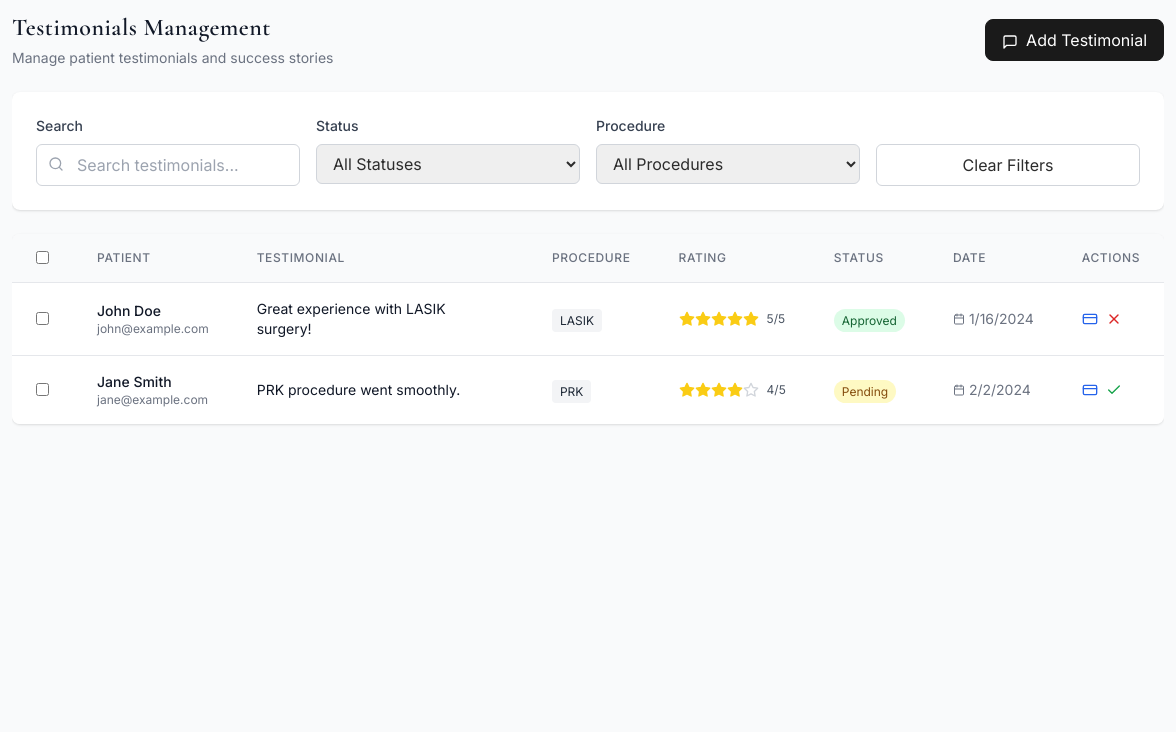
Test case: TestimonialsManager › should select individual testimonials
Check: the text "John Doe" is shown, box [97,302,161,319]
Click the checkbox next to "John Doe".
click(42, 318)  # box [36,312,49,325]
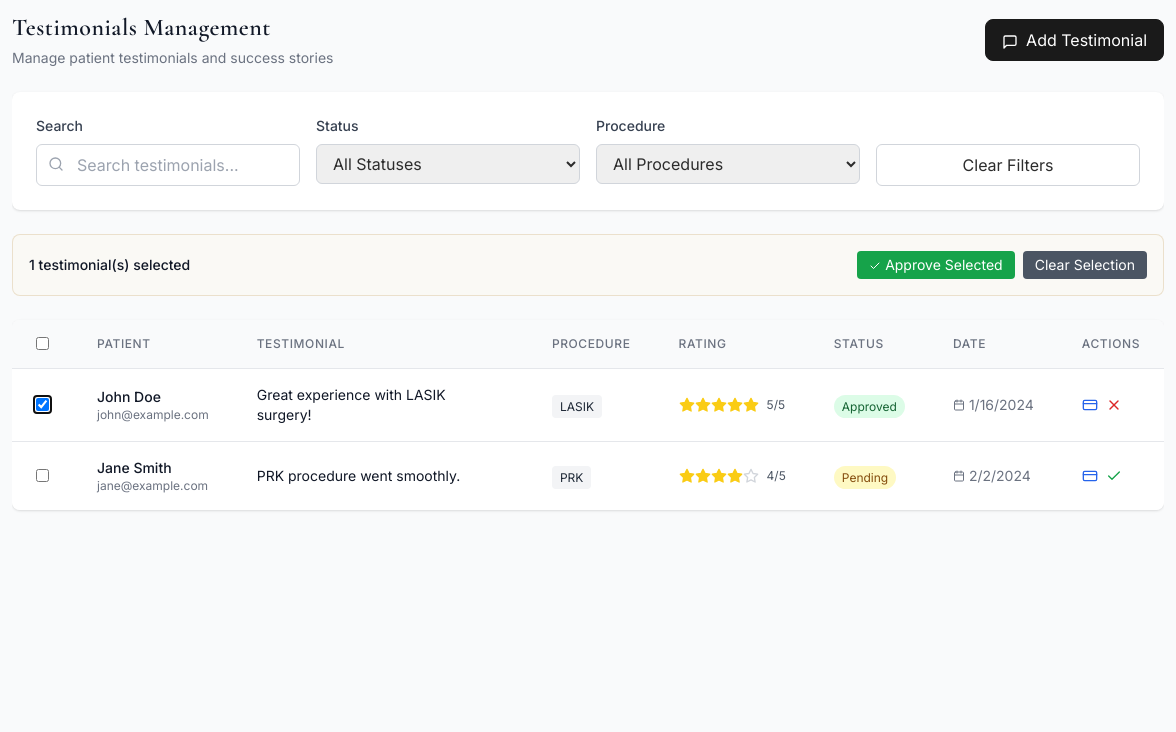
Check: the text "1 testimonial(s) selected" is shown, box [29,255,190,275]
